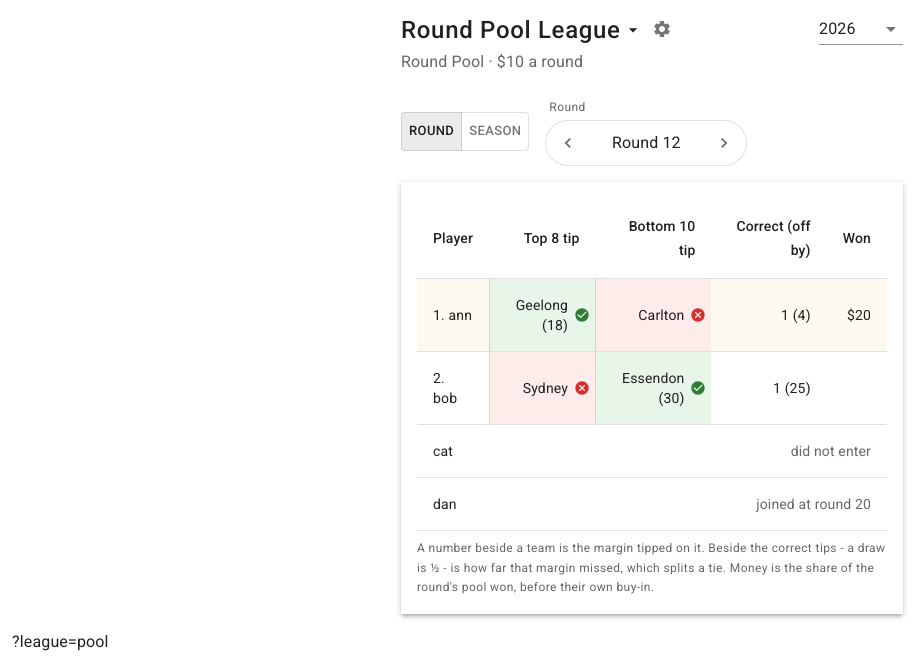
it: what the season table shows › a weekly league counts entries, winnings and balance in money
Step 1. Click the button "Season" → (495, 132), box [461,112,529,151]
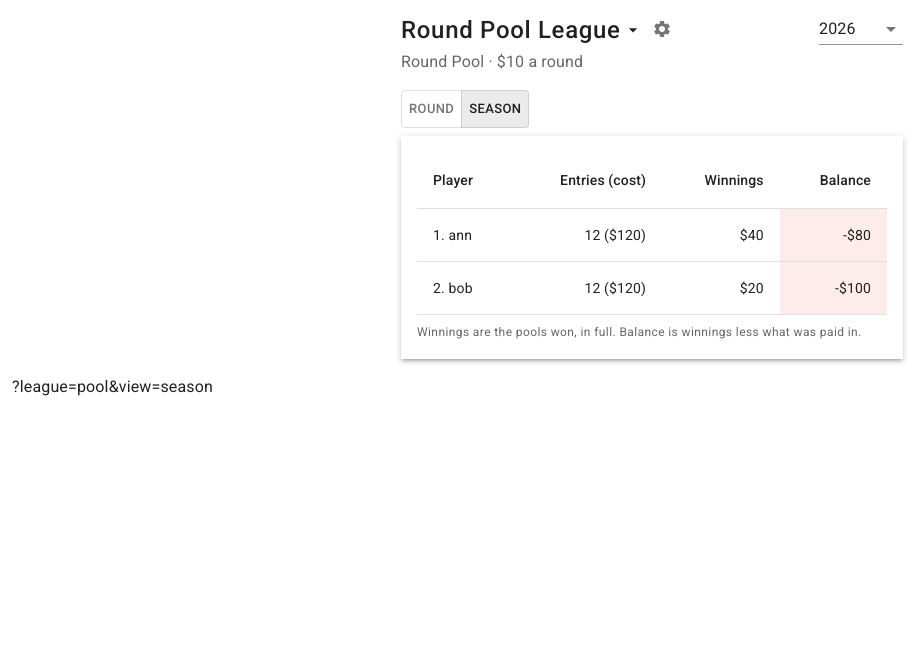
Check: the text "12 ($120)" in the row of "1." is shown, box [584,227,646,243]
Check: the text "$40" is shown, box [662,209,780,262]
Check: the text "-$80" is shown, box [780,209,887,262]
